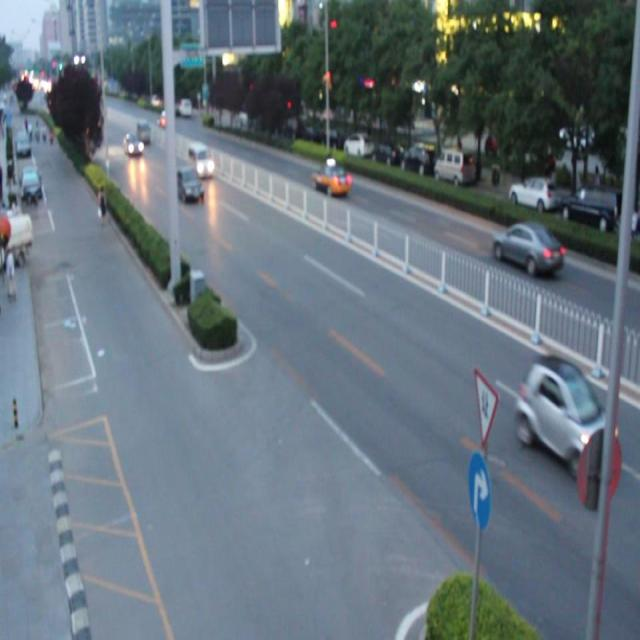car: (515, 354, 610, 474), (490, 218, 562, 276), (313, 161, 348, 196), (176, 168, 201, 201)
truck: (187, 142, 212, 177)
